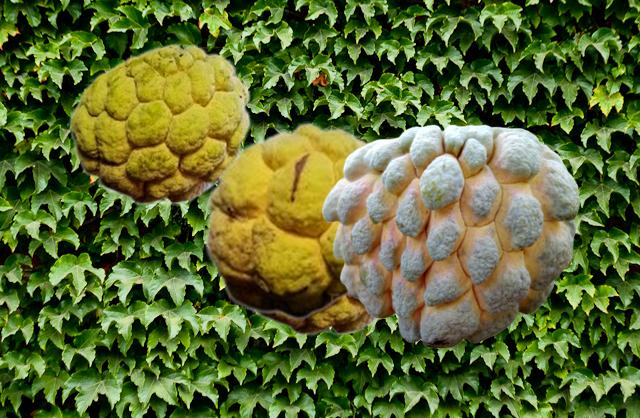atis: (322, 124, 578, 347), (203, 121, 372, 319), (68, 43, 250, 204), (248, 296, 383, 335)
